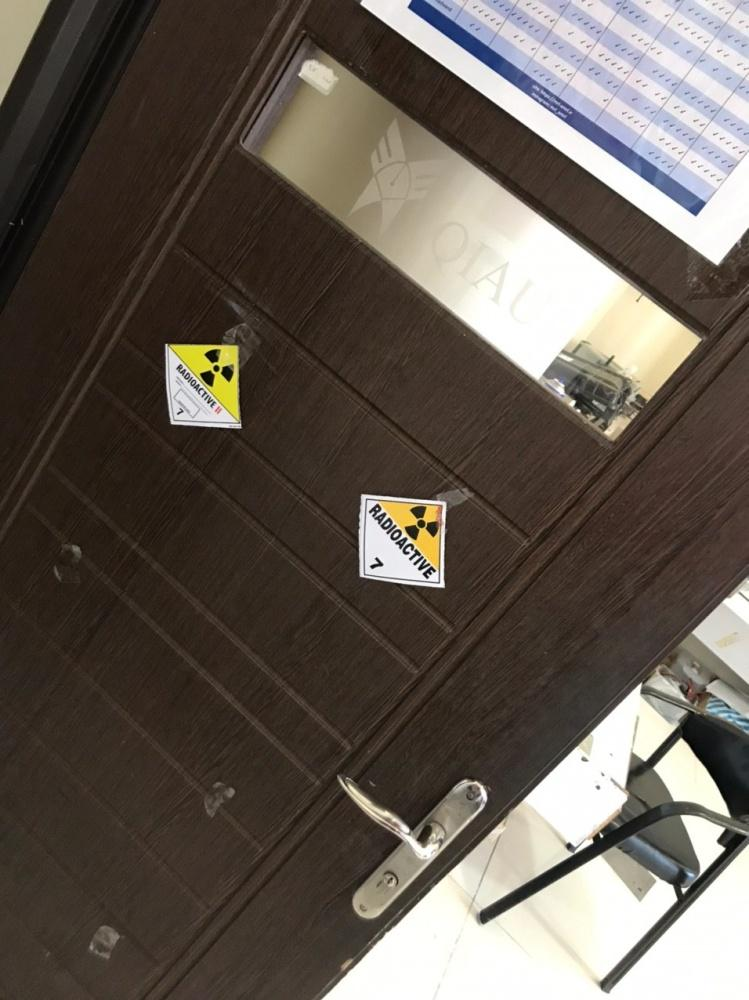radioactive: (360, 495, 448, 587), (165, 344, 243, 430)
